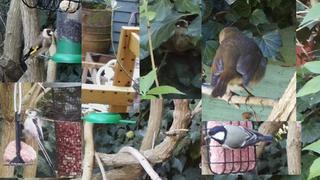goldfinch: (21, 27, 55, 63)
great tit: (204, 124, 275, 150)
long tailed tit: (21, 109, 55, 171)
robin: (209, 27, 270, 106)
